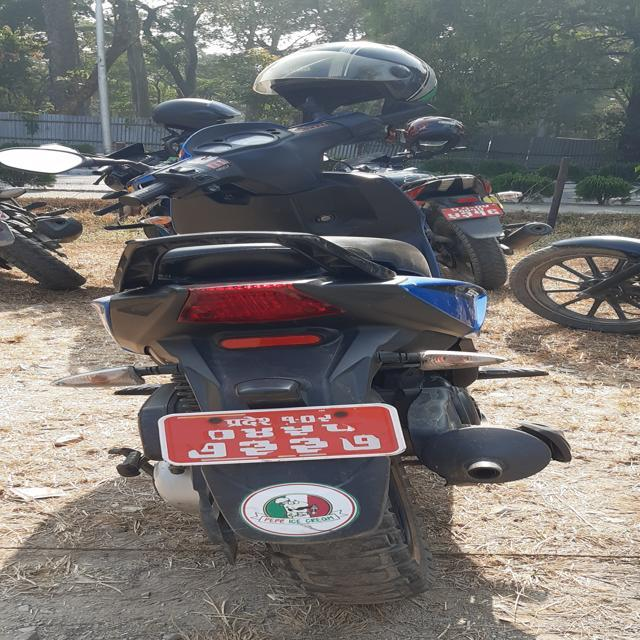license_plate: (160, 368, 423, 473)
